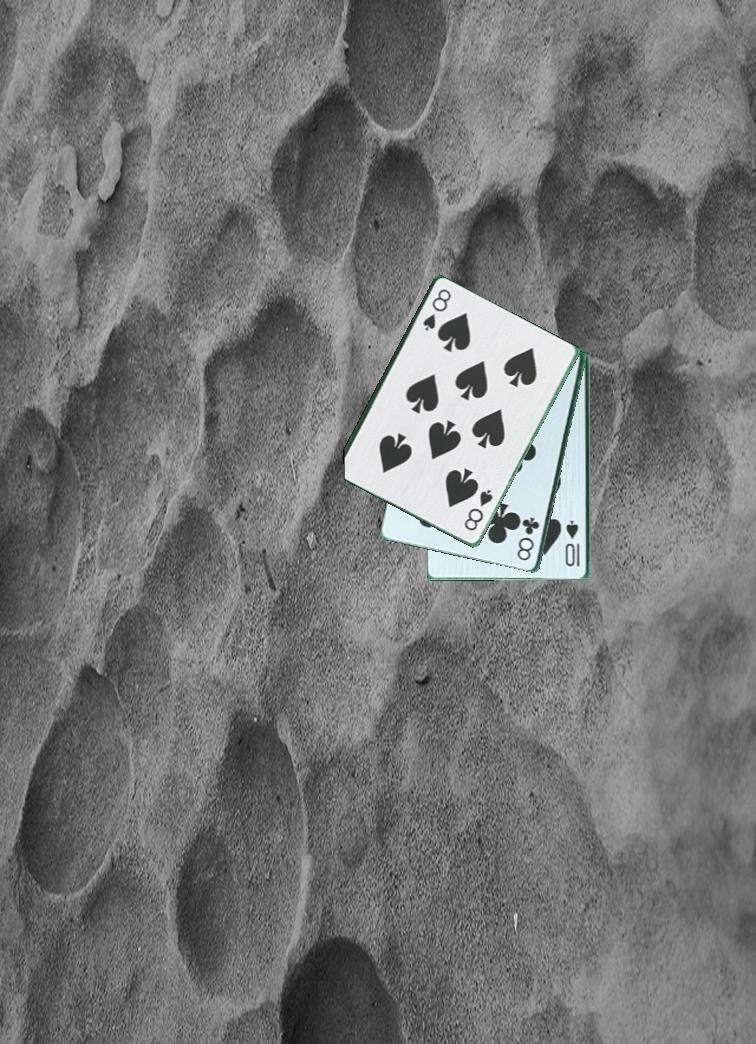8c: (515, 514, 543, 564)
8s: (456, 486, 496, 536), (419, 286, 454, 336)
ts: (564, 517, 583, 570)
